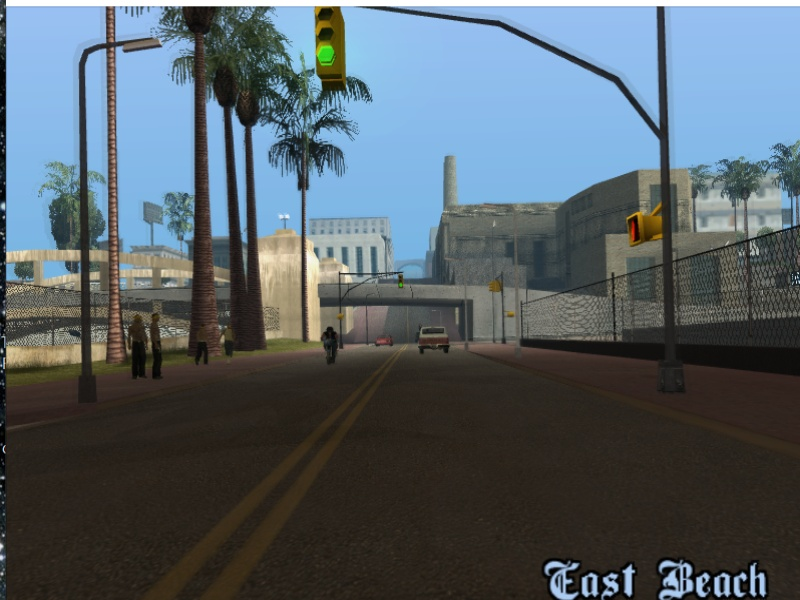person: (128, 315, 148, 380), (152, 314, 168, 380), (195, 323, 207, 367), (225, 318, 237, 359)
pole: (653, 15, 696, 395), (72, 47, 100, 402), (511, 222, 526, 358), (460, 264, 472, 353)
vehicle: (415, 325, 453, 355), (319, 326, 343, 366), (374, 334, 394, 349)
